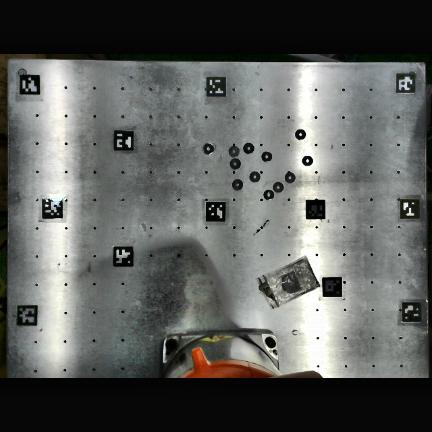marker: (17, 304, 38, 325), (400, 198, 420, 219), (42, 198, 62, 218), (113, 246, 133, 266), (114, 130, 134, 150), (206, 75, 226, 95), (403, 300, 422, 321), (206, 201, 225, 222), (20, 75, 40, 94), (396, 73, 415, 93), (306, 200, 325, 219), (323, 278, 342, 296)
washer: (250, 172, 260, 182), (303, 156, 313, 166), (285, 172, 295, 182), (229, 146, 238, 157), (244, 144, 254, 153), (231, 159, 240, 169), (233, 180, 242, 190), (262, 152, 272, 161), (295, 130, 305, 139), (273, 183, 283, 192), (264, 190, 274, 199), (204, 144, 213, 153)
